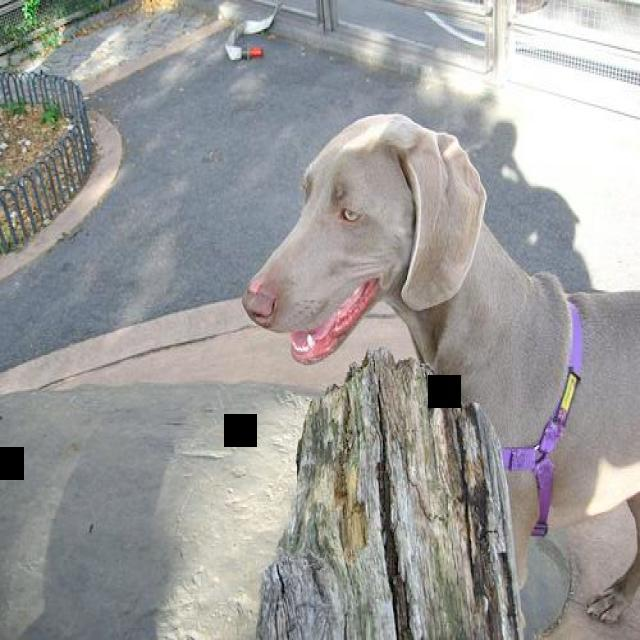adult_dog: (241, 110, 640, 627)
